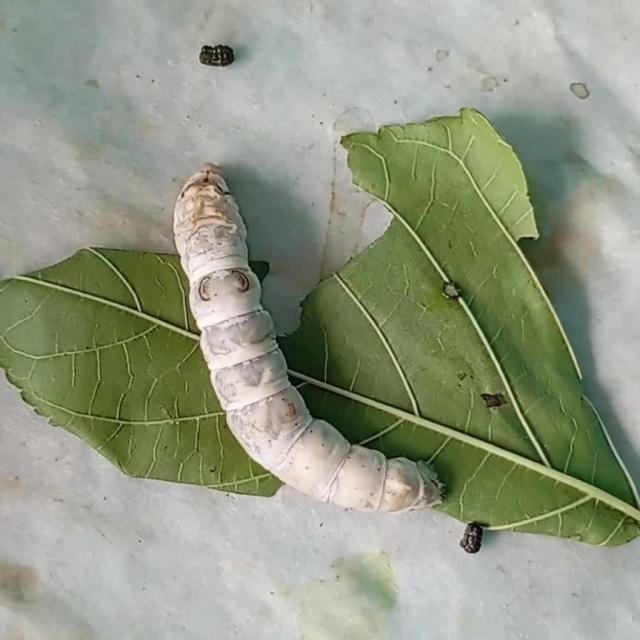Grasserie: (129, 135, 471, 529)
